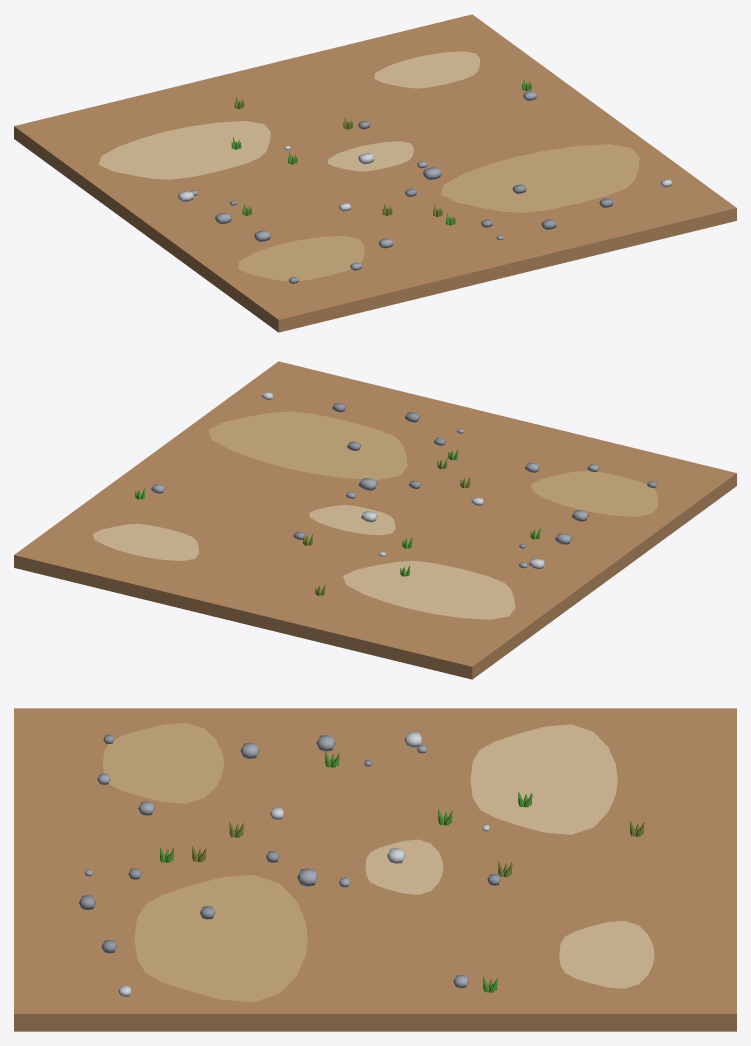
Rendered from piso_terra.glb.
3 renders of one model, top to bottom at view 1: azimuth 30°, elevation 25°; view 2: azimuth 150°, elevation 25°; view 3: azimuth 270°, elevation 25°, orthographic. The views are drawn at different scales.
Visible parts, largest first — view 1: piso_terra; view 2: piso_terra; view 3: piso_terra.
Part boxes in pixels (x1=…): piso_terra: x1=14, y1=14, x2=736, y2=332; piso_terra: x1=14, y1=361, x2=736, y2=679; piso_terra: x1=14, y1=708, x2=736, y2=1031.
Size of the model in its own units: 15 by 0.6725 by 15.
1 material, 1 textured.
